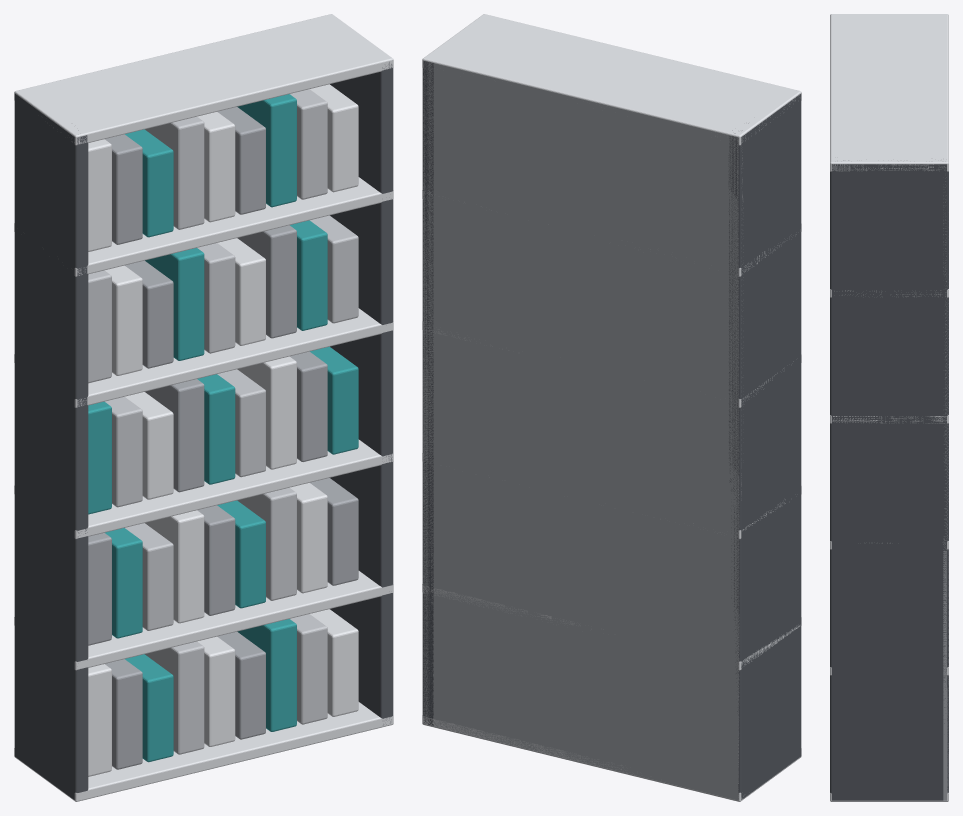
The model's file is bookshelf_archive_wall.glb.
3 views of the same model, side by side, from view 1: azimuth 30°, elevation 25°; view 2: azimuth 150°, elevation 25°; view 3: azimuth 270°, elevation 25° (orthographic). The views are drawn at different scales.
Parts seen in each view (by area): view 1: GD_bookshelf_archive_wall__m4, GD_bookshelf_archive_wall__m0, GD_bookshelf_archive_wall__m3, GD_bookshelf_archive_wall__m2, GD_bookshelf_archive_wall__m1; view 2: GD_bookshelf_archive_wall__m1, GD_bookshelf_archive_wall__m0, GD_bookshelf_archive_wall__m4; view 3: GD_bookshelf_archive_wall__m0, GD_bookshelf_archive_wall__m4, GD_bookshelf_archive_wall__m1.
Boxes of the visible parts, x1=… form: GD_bookshelf_archive_wall__m4: x1=14, y1=14, x2=393, y2=801; GD_bookshelf_archive_wall__m0: x1=14, y1=62, x2=393, y2=799; GD_bookshelf_archive_wall__m3: x1=88, y1=89, x2=358, y2=754; GD_bookshelf_archive_wall__m2: x1=88, y1=94, x2=358, y2=762; GD_bookshelf_archive_wall__m1: x1=88, y1=107, x2=358, y2=769; GD_bookshelf_archive_wall__m1: x1=423, y1=61, x2=743, y2=800; GD_bookshelf_archive_wall__m0: x1=422, y1=61, x2=801, y2=799; GD_bookshelf_archive_wall__m4: x1=422, y1=14, x2=801, y2=801; GD_bookshelf_archive_wall__m0: x1=830, y1=160, x2=948, y2=800; GD_bookshelf_archive_wall__m4: x1=830, y1=14, x2=948, y2=801; GD_bookshelf_archive_wall__m1: x1=943, y1=167, x2=948, y2=800.
Bounding box in the file's own units: 0.95 × 1.9 × 0.32.
